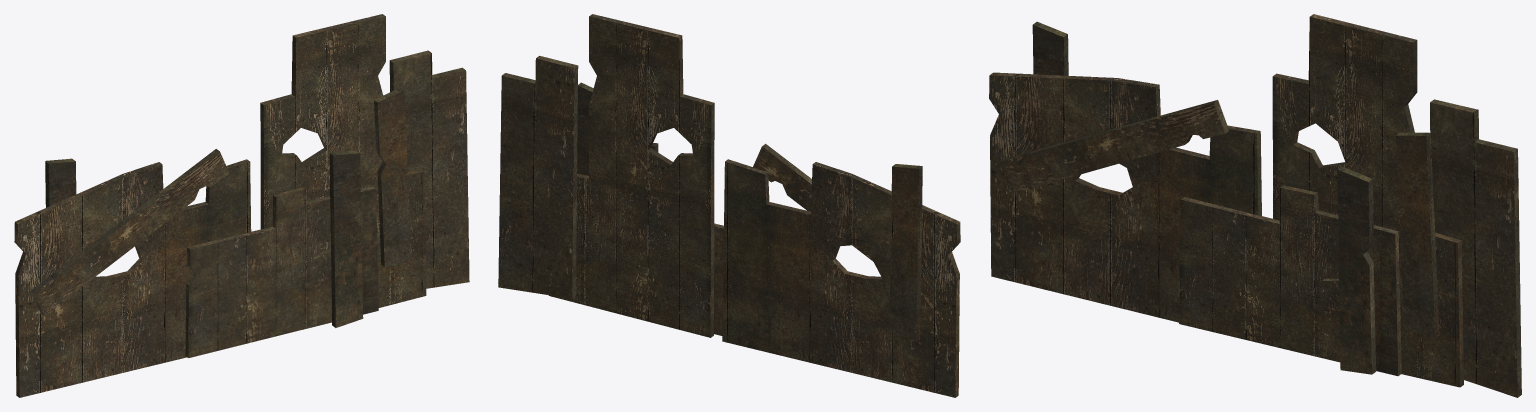
The model's file is Wall_Wood.fbx.
3 renders of one model, left to right at view 1: azimuth 30°, elevation 25°; view 2: azimuth 150°, elevation 25°; view 3: azimuth 330°, elevation 25°, orthographic. The views are drawn at different scales.
Parts seen in each view (by area): view 1: woodwall2; view 2: woodwall2; view 3: woodwall2.
Part boxes in pixels (bbox=[...]): woodwall2: bbox=[14, 14, 469, 397]; woodwall2: bbox=[498, 14, 960, 397]; woodwall2: bbox=[989, 14, 1521, 397].
Size of the model in its own units: 996 by 614 by 51.92.
